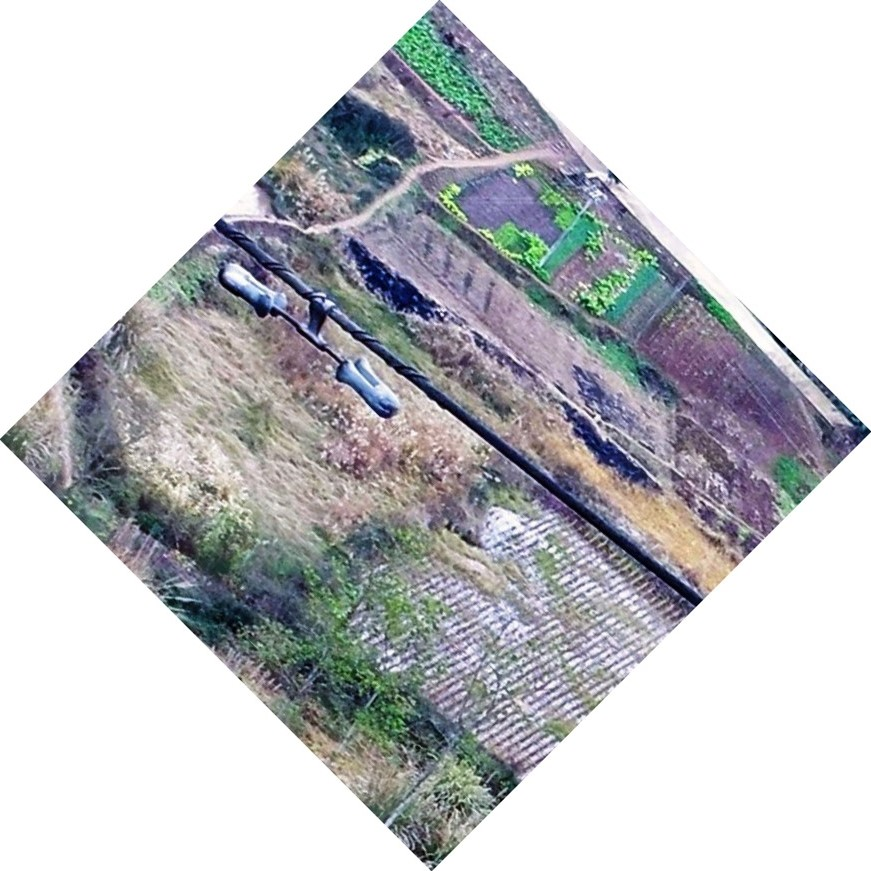Shockproof hammer: (208, 245, 405, 428)
